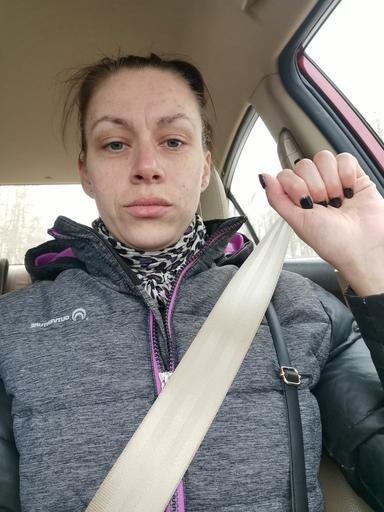fist: (259, 151, 383, 275)
